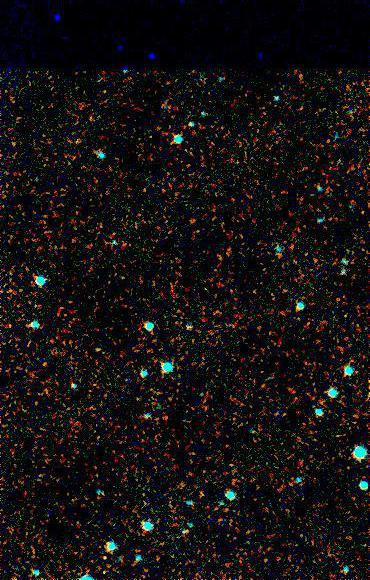star: (78, 333, 108, 363)
